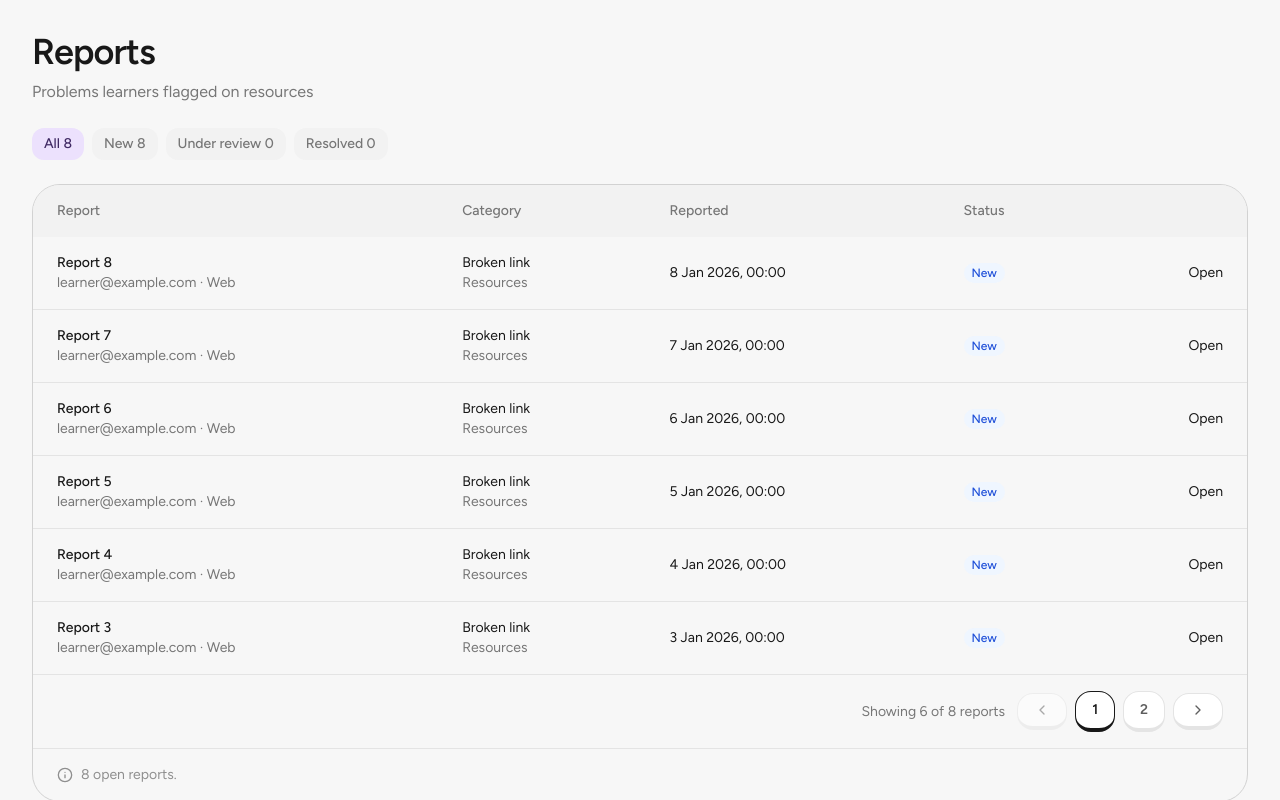
Test: ReportsPage paging › shows 6 reports per page and moves to the next
Expected: the text "Report 8" is shown 6 times, [57, 254, 112, 271]; [57, 327, 111, 344]; [57, 400, 112, 417]; [57, 473, 112, 490]; [57, 546, 112, 563]; [57, 619, 111, 636]
Expected: the text "Showing 6 of 8 reports" is shown, [862, 702, 1005, 722]
Click the button named "Next page".
click(1198, 712)  # box [1173, 693, 1223, 730]
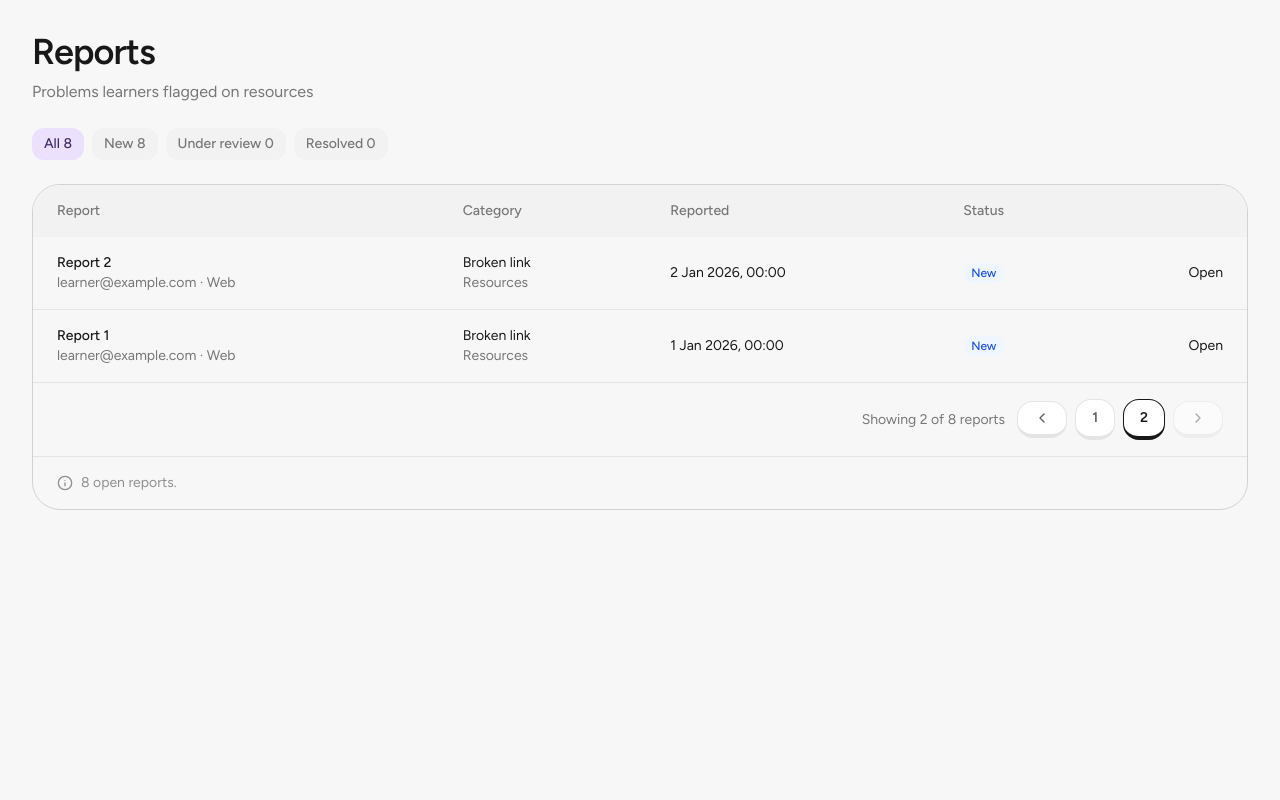
Expected: the text "Report 2" is shown 2 times, [57, 254, 112, 271]; [57, 327, 110, 344]
Expected: the text "Showing 2 of 8 reports" is shown, [862, 410, 1005, 430]
